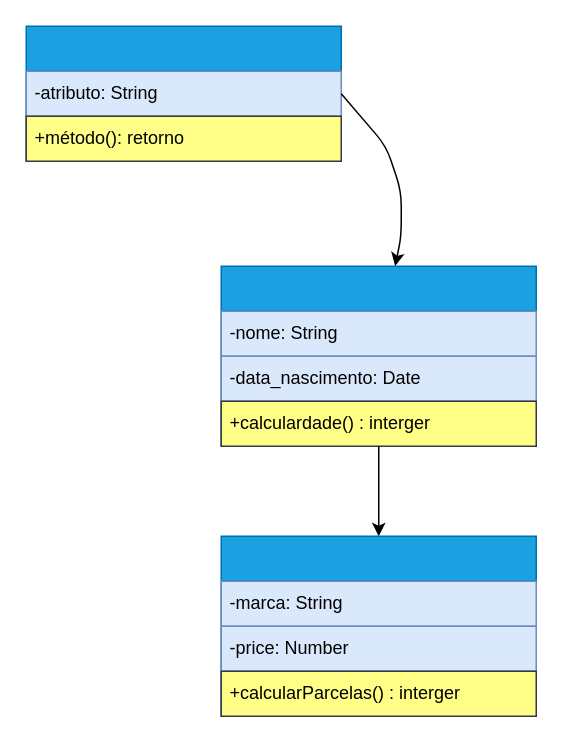
This 563x743 diagram has some shape labels left out. The shapes that lost their labels are listed below. From the top down, each one's box as (x1, y1, x2, y2) in pixels, then its label:
(25, 25, 341, 161): Exemplo
(220, 265, 536, 446): Aluno
(220, 535, 536, 716): Carro
